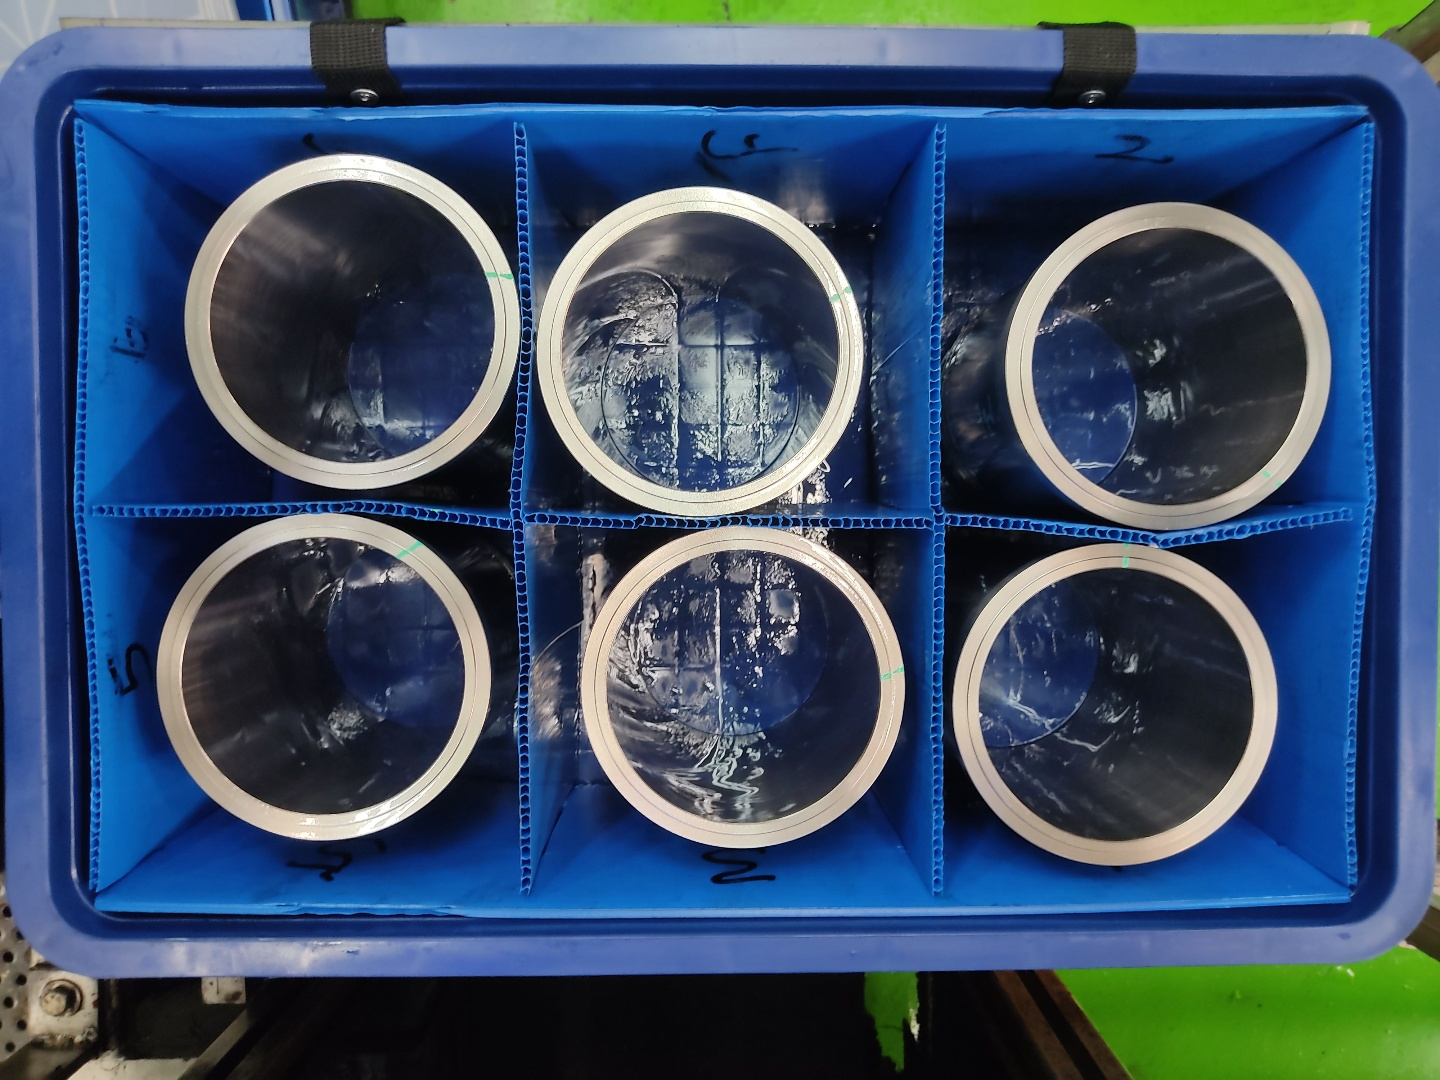cylinder: (177, 149, 525, 495), (150, 511, 495, 846), (535, 182, 870, 522), (999, 196, 1336, 532), (948, 538, 1284, 872), (579, 523, 909, 857)
